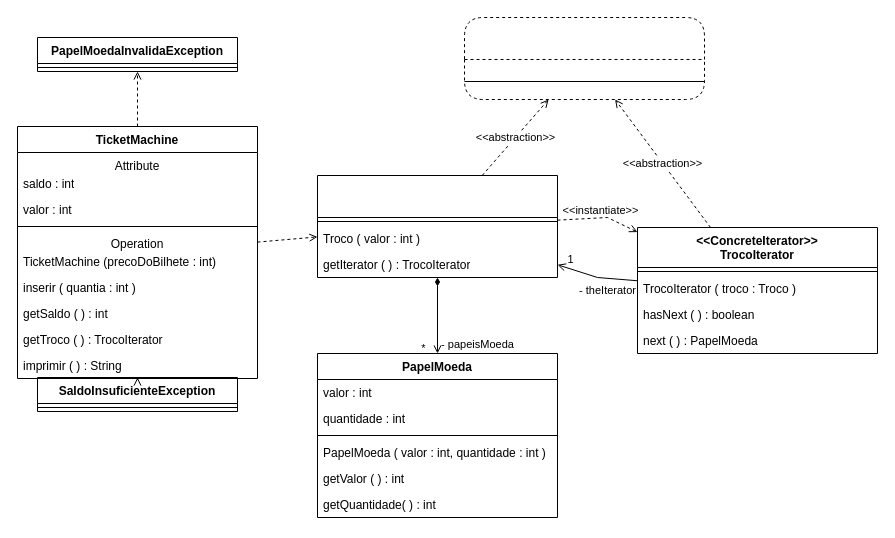
The diagram is 895 pixels wide and 538 high, and some of its shapes have lost their labels. Here are the shapes that lost their labels. From the top down, the box of each, then its label:
(464, 16, 704, 100): <<Patter Instance>> Iterator
(316, 174, 558, 278): <<ConcreteAggregate>> Troco
